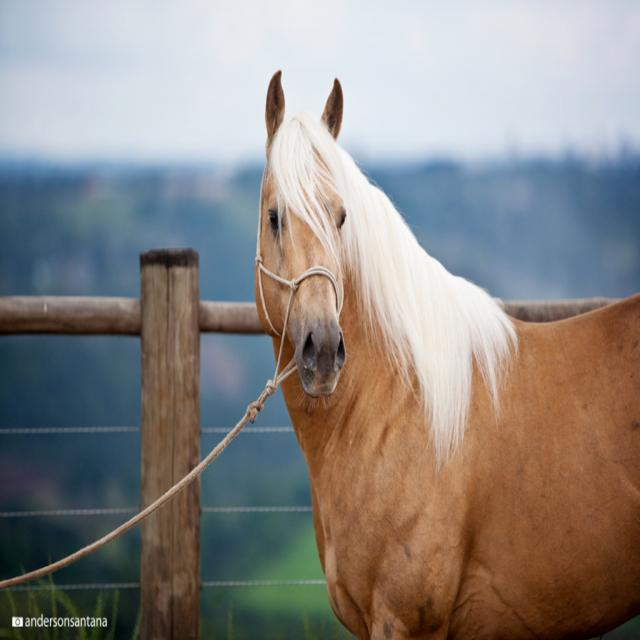Horse: (252, 69, 640, 639)
